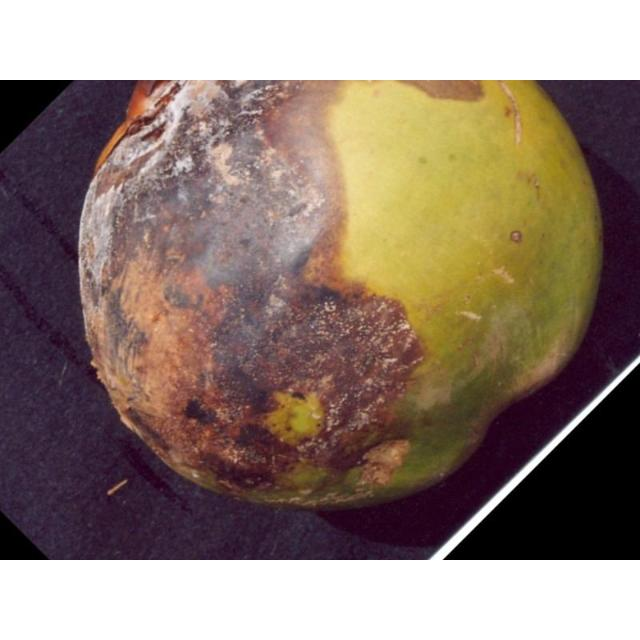damaged: (80, 80, 602, 506)
